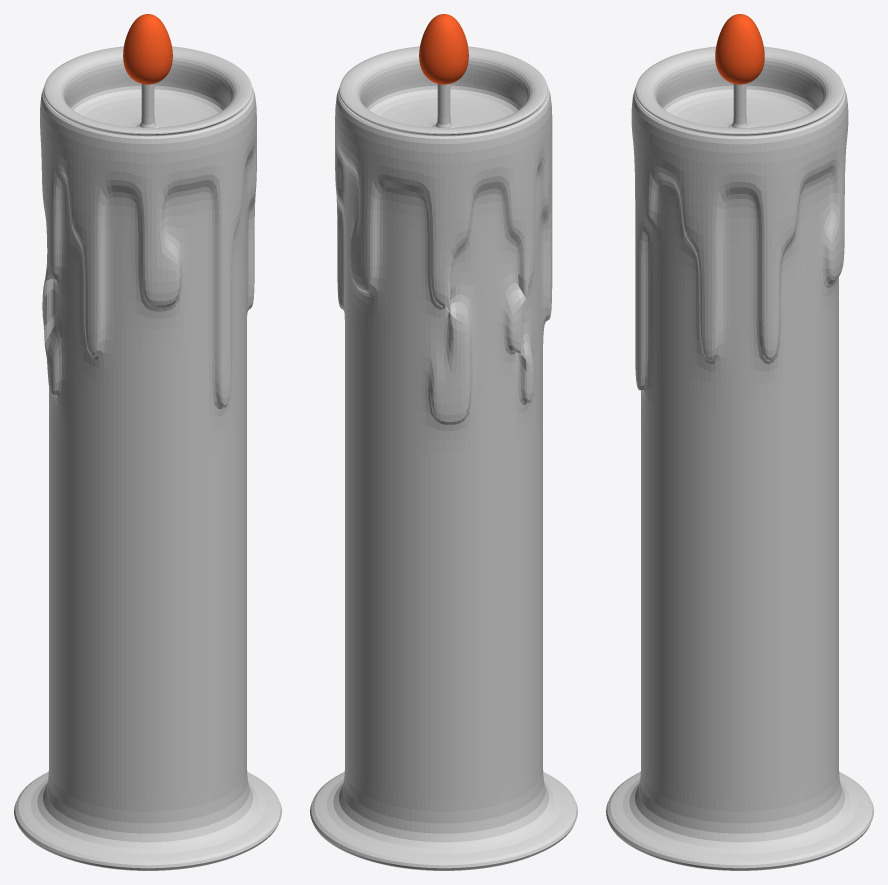
The model's file is espelma.fbx.
The picture shows the model from 3 angles, left to right: view 1: azimuth 30°, elevation 25°; view 2: azimuth 150°, elevation 25°; view 3: azimuth 270°, elevation 25°; orthographic projection.
Parts seen in each view (by area): view 1: Cylinder, Cube; view 2: Cylinder, Cube; view 3: Cylinder, Cube.
Boxes of the visible parts, <box> form: Cylinder: <box>14,46,281,870</box>; Cube: <box>123,14,172,84</box>; Cylinder: <box>310,46,577,870</box>; Cube: <box>419,14,468,84</box>; Cylinder: <box>606,46,873,870</box>; Cube: <box>715,14,764,84</box>.
Size of the model in its own units: 269 by 889 by 269.
